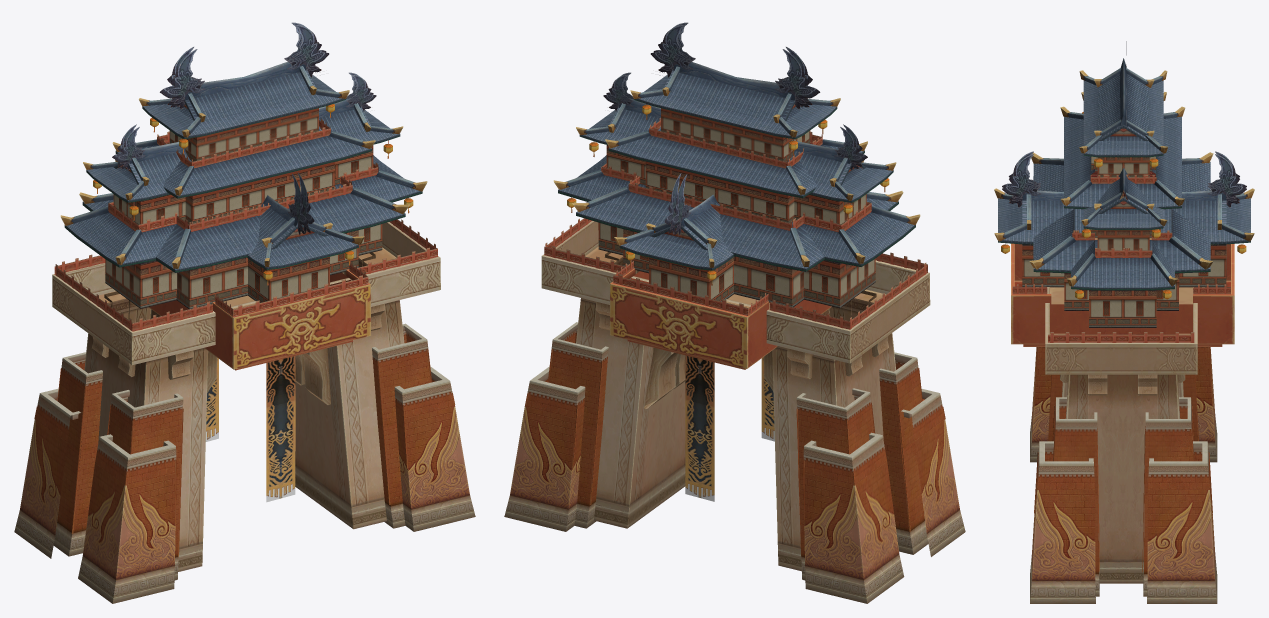
Rendered from levelgate.FBX.
The picture shows the model from 3 angles, left to right: view 1: azimuth 30°, elevation 25°; view 2: azimuth 150°, elevation 25°; view 3: azimuth 270°, elevation 25°; orthographic projection. The views are drawn at different scales.
Parts seen in each view (by area): view 1: ca2_build013_1:0; view 2: ca2_build013_1:0; view 3: ca2_build013_1:0.
Part boxes in pixels (left/top/right/bottom): ca2_build013_1:0: left=14, top=22, right=475, bottom=603; ca2_build013_1:0: left=504, top=22, right=965, bottom=603; ca2_build013_1:0: left=994, top=41, right=1254, bottom=603.
Size of the model in its own units: 8140 by 5318 by 10496.
